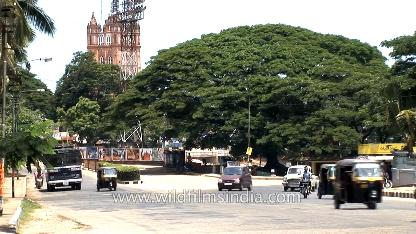auto-rikshaw: (332, 160, 387, 209), (94, 162, 120, 194), (319, 162, 339, 200)
bike: (300, 166, 312, 198)
car: (214, 162, 254, 194), (281, 159, 317, 193)
priority: (44, 142, 84, 190)
